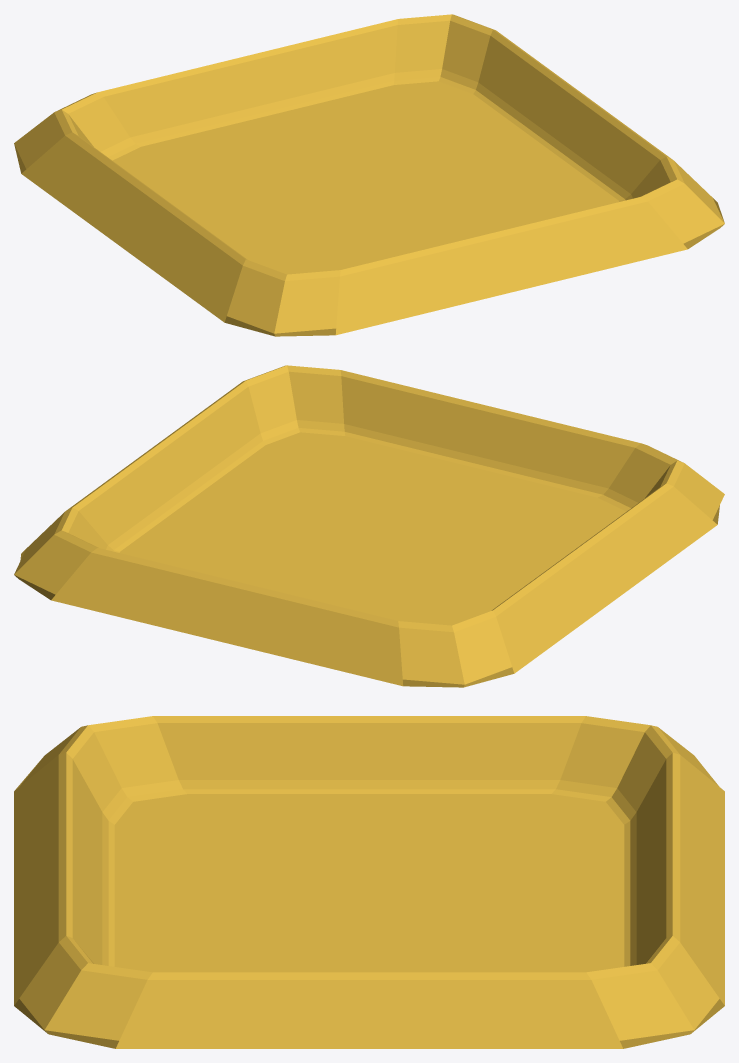
Rendered from gameboard 1.fbx.
The picture shows the model from 3 angles, top to bottom: view 1: azimuth 30°, elevation 25°; view 2: azimuth 150°, elevation 25°; view 3: azimuth 270°, elevation 25°; orthographic projection. The views are drawn at different scales.
Parts seen in each view (by area): view 1: Plane; view 2: Plane; view 3: Plane.
Boxes of the visible parts, x1,y1,x2,y2 form: Plane: [14, 14, 724, 336]; Plane: [14, 365, 724, 687]; Plane: [14, 716, 724, 1048].
Size of the model in its own units: 2630 by 235 by 2630.
